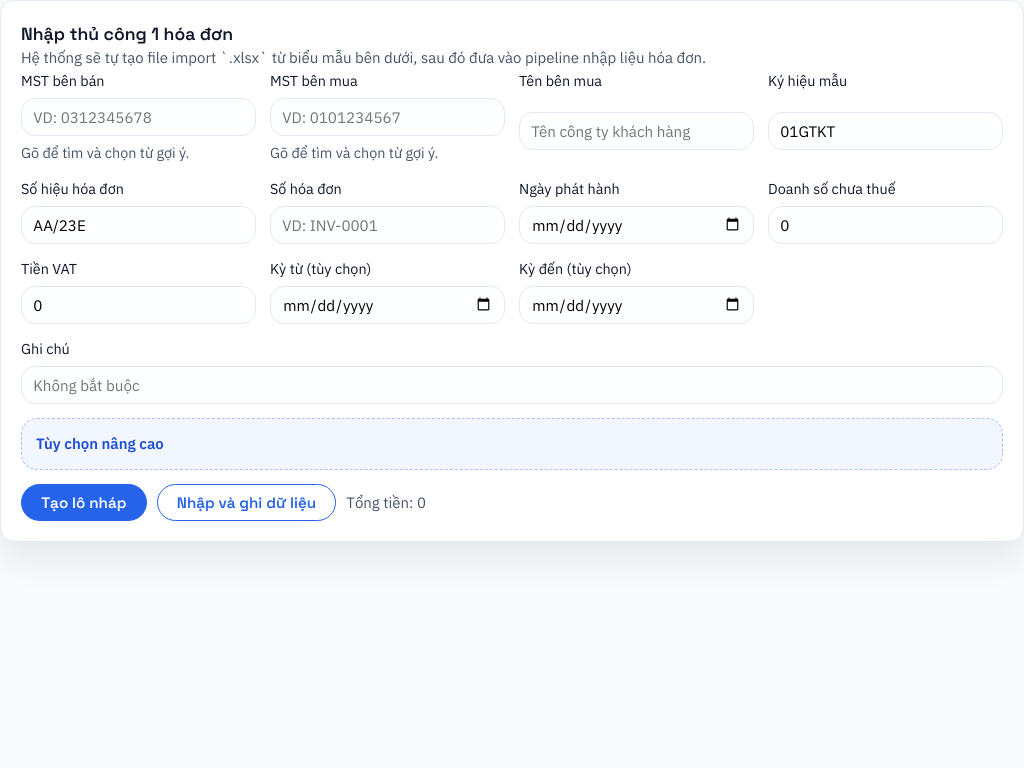
Test case: ManualInvoicesSection › commits staged manual invoice when user has commit permission
The width and height of the screenshot is (1024, 768).
Type "0312345678" into the field labelled "MST bên bán" at (138, 117), box [21,98,256,136]
Type "0101234567" into the field labelled "MST bên mua" at (388, 117), box [270,98,505,136]
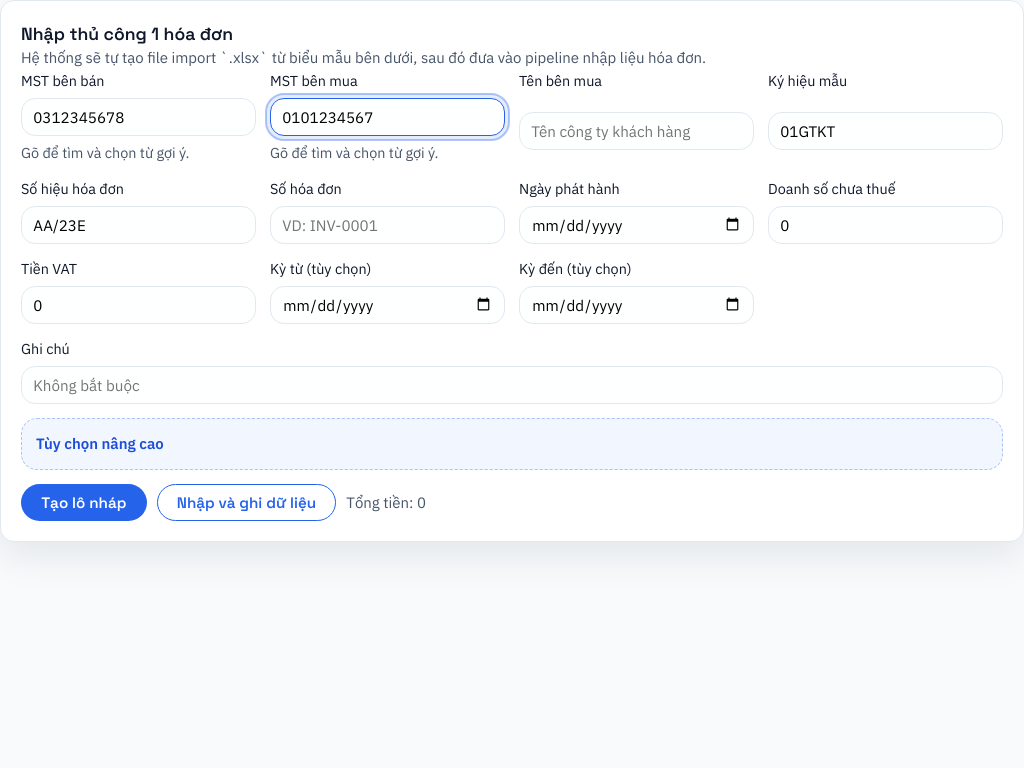
Type "INV-2026-0001" into the field labelled "Số hóa đơn" at (388, 225), box [270,206,505,244]
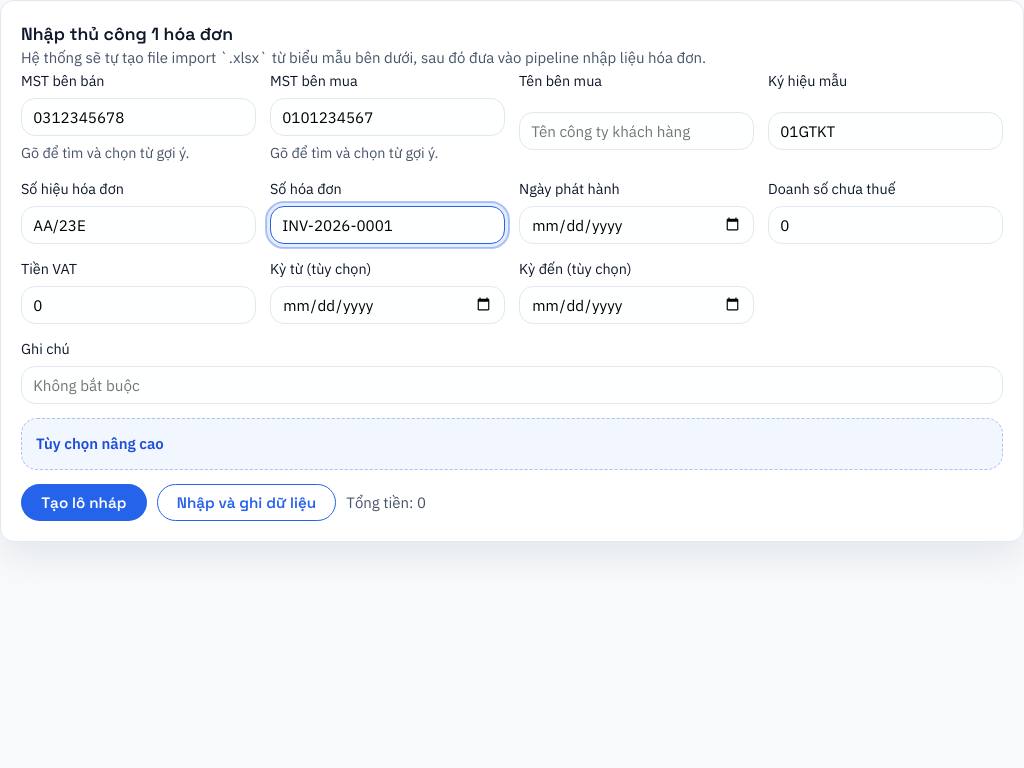
Type "2026-03-05" into the date field labelled "Ngày phát hành" at (636, 225), box [519,206,754,244]
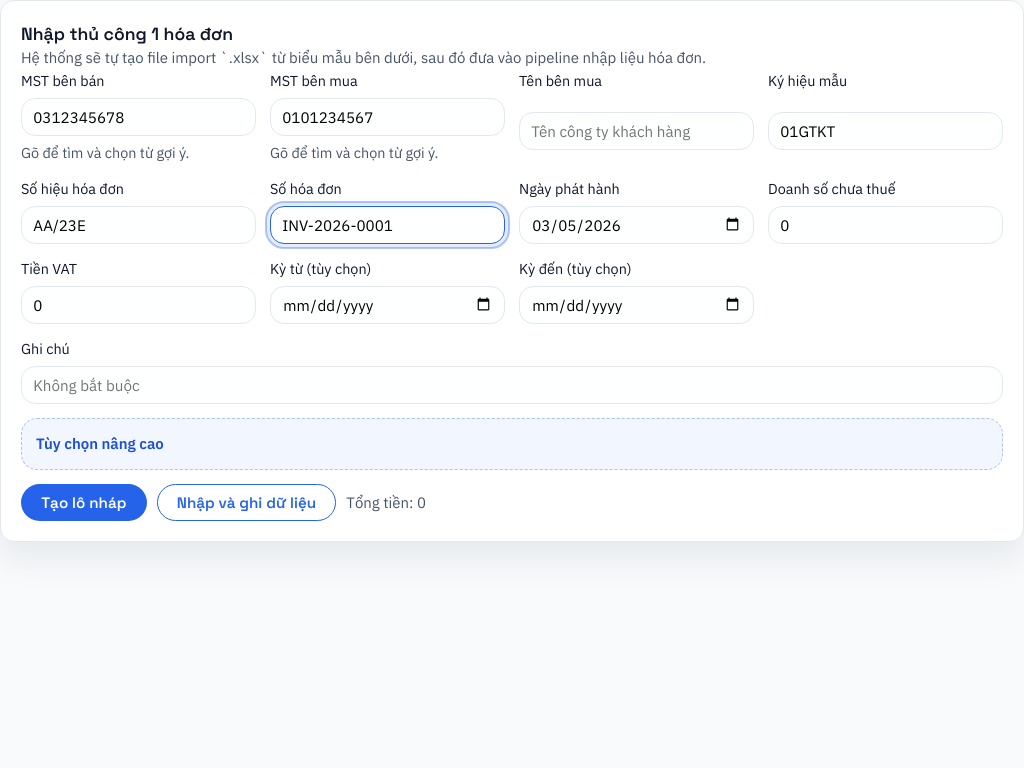
Replace the text in the field labelled "Doanh số chưa thuế" with "1000000" at (886, 225), box [768,206,1003,244]
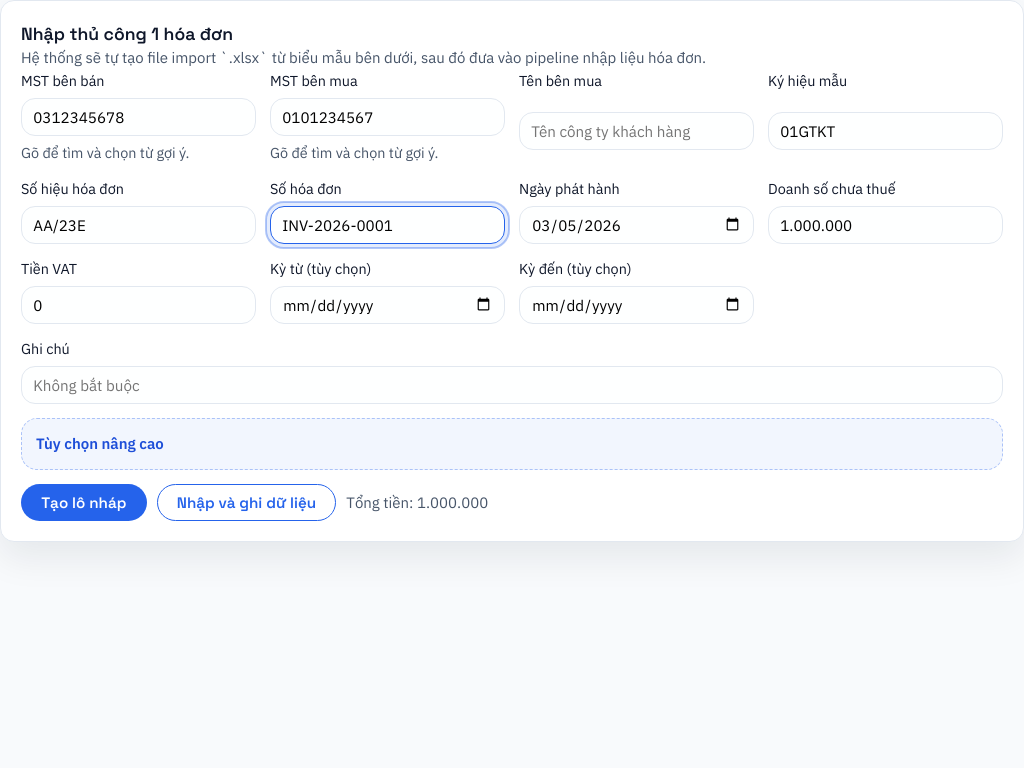
Replace the text in the field labelled "Tiền VAT" with "100000" at (138, 305), box [21,286,256,324]
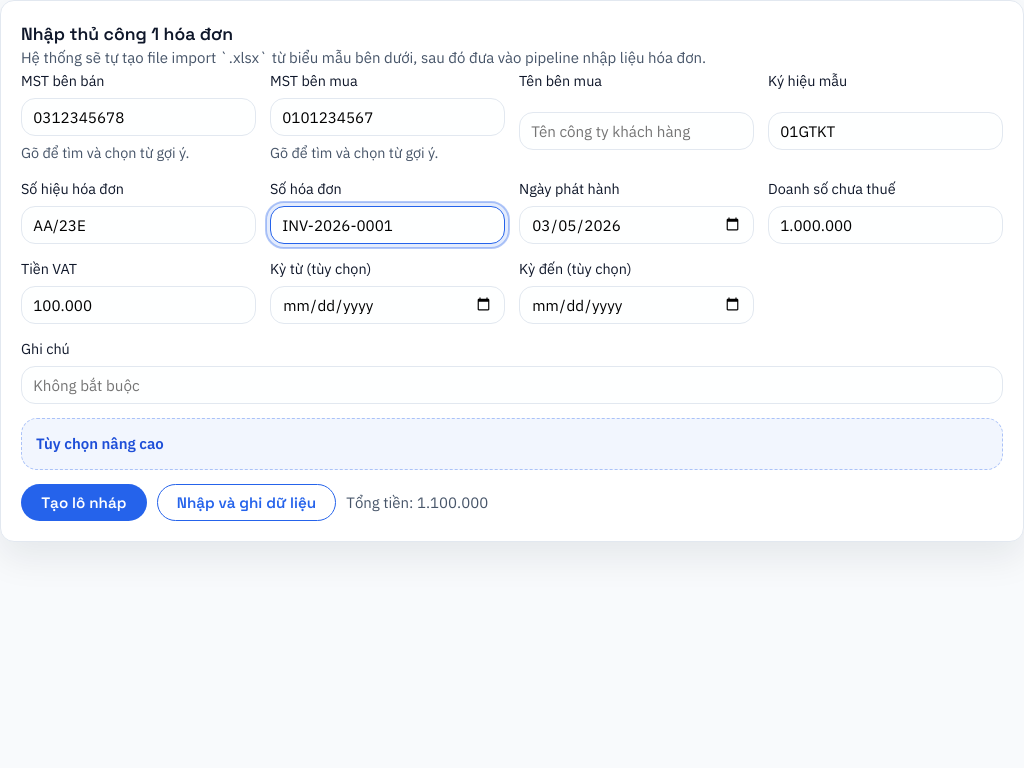
Click the button "Nhập và ghi dữ liệu" at (246, 503), box [156,484,336,521]
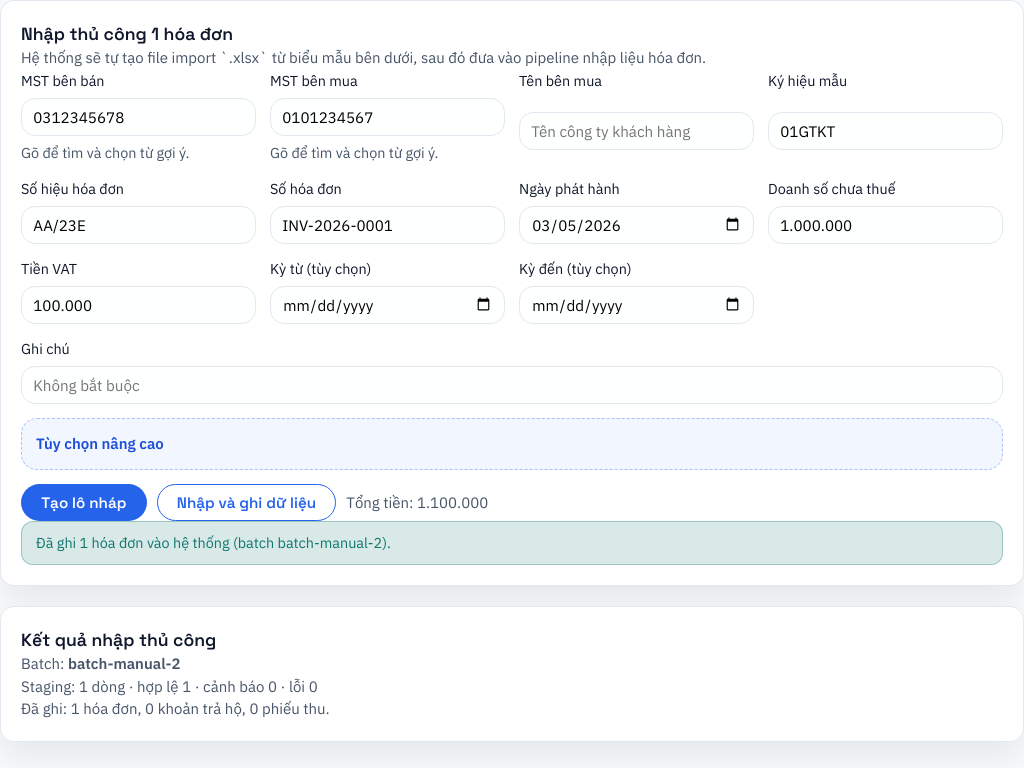
Expected: the text "Đã ghi 1 hóa đơn vào hệ thống (batch batch-manual-2)." is shown, [21,521,1003,565]
